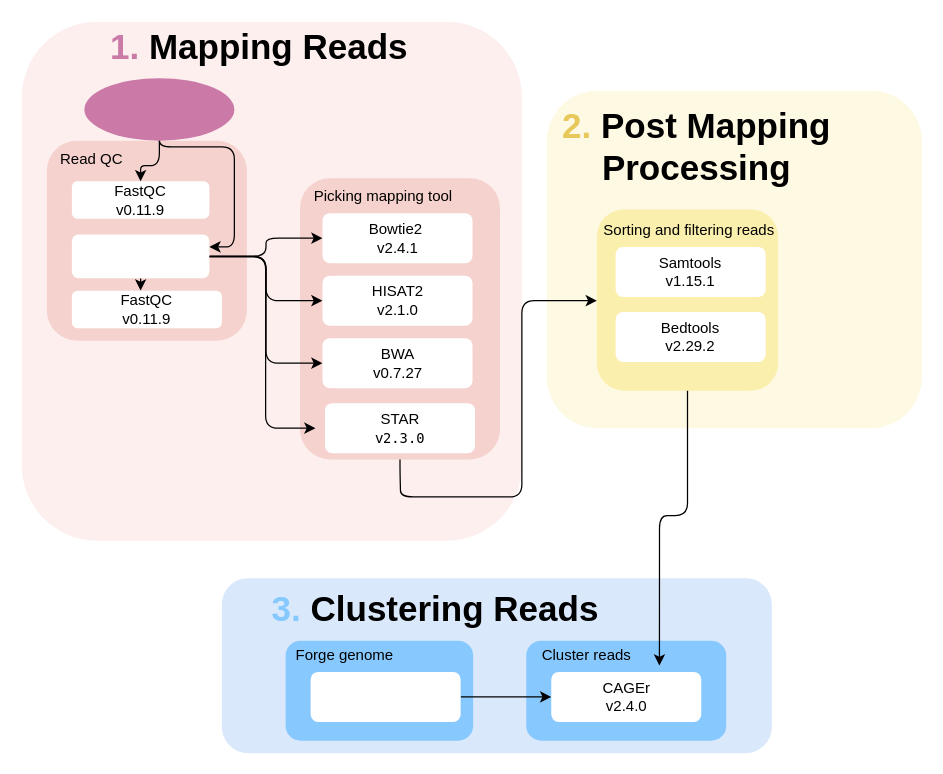
The diagram is 943 pixels wide and 774 high, and some of its shapes have lost their labels. The shapes that lost their labels are listed below. From the top down, each one's centre as x and y in pixels, then its label:
At pixel 159 109: "CAGE Reads".
At pixel 140 256: "Trimmomatic v0.39".
At pixel 385 696: "BSGenome v1.66.3".
